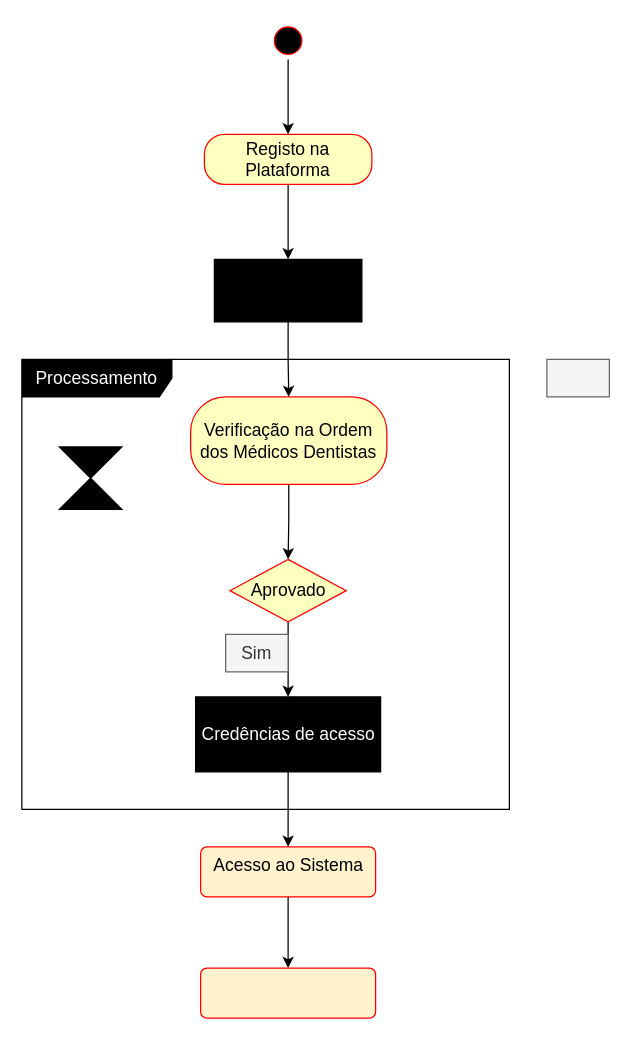
Some shapes in this 631 by 1040 pixel diagram are drawn without their labels. Each missing label, with the centre of its shape:
30 min: point (90, 477)
Dados solicitados: point (287, 290)
Não: point (577, 377)
Pedido de adesão: point (287, 992)
